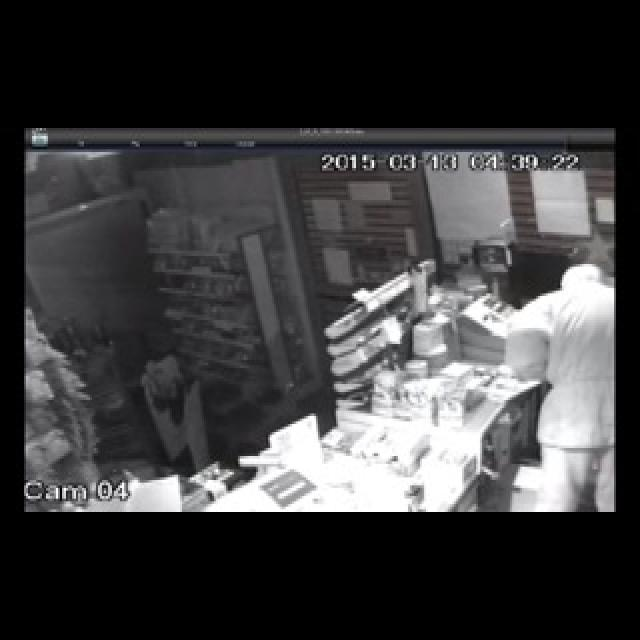thief: (499, 255, 616, 510)
